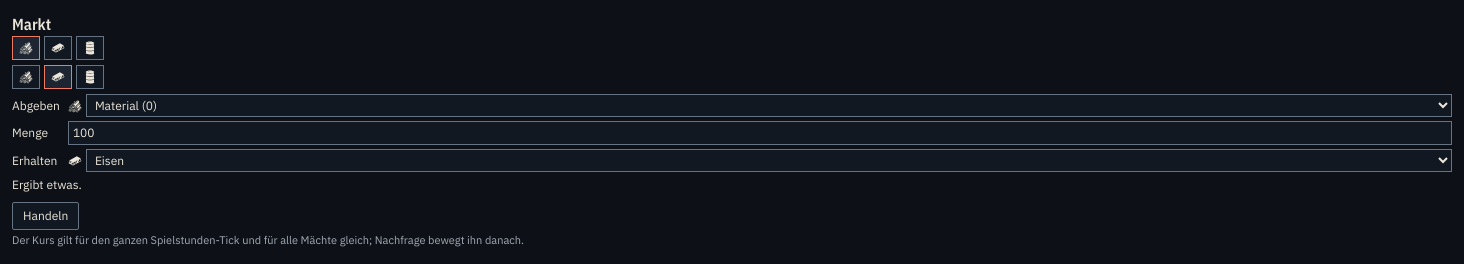
it: E4.4 Die Markt-Chip-Leisten ersetzen den Select-Umweg › Klick auf einen Geben-Chip setzt die Auswahl und fokussiert das Mengenfeld
Click the 3rd button with class "market__chip" at [90, 48], box [76, 36, 104, 60]
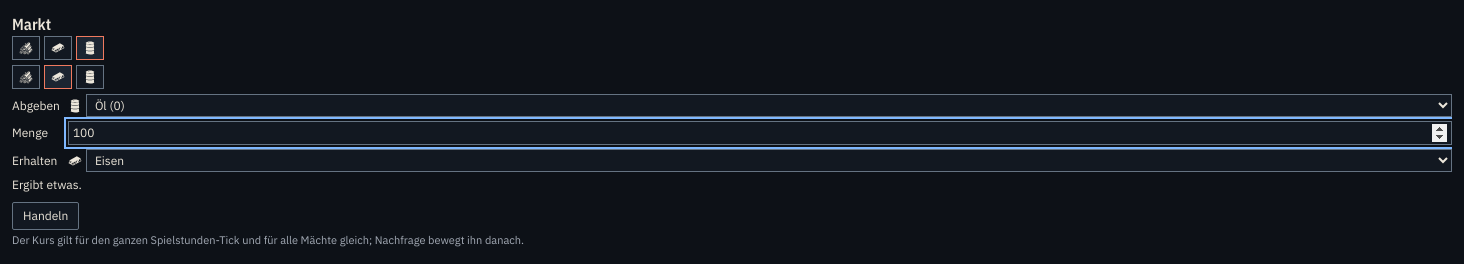
Check: the dropdown with id "market-give" shows "Öl (0)", box [86, 94, 1452, 117]
